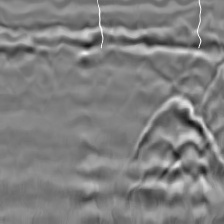Utility: (130, 92, 224, 200)
